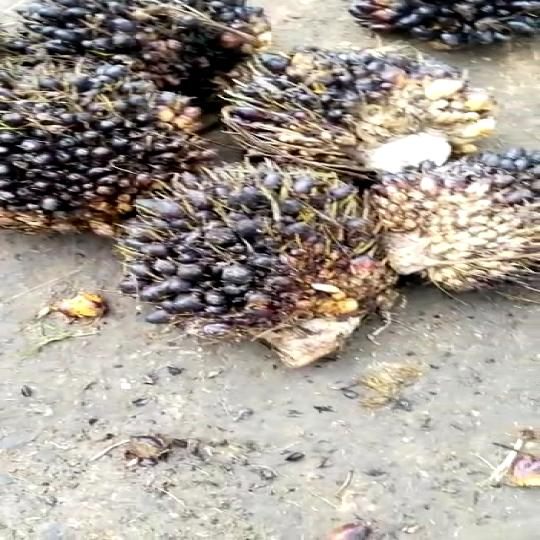mentah: (119, 170, 443, 380), (216, 29, 497, 170), (0, 49, 205, 231), (348, 146, 540, 286)
